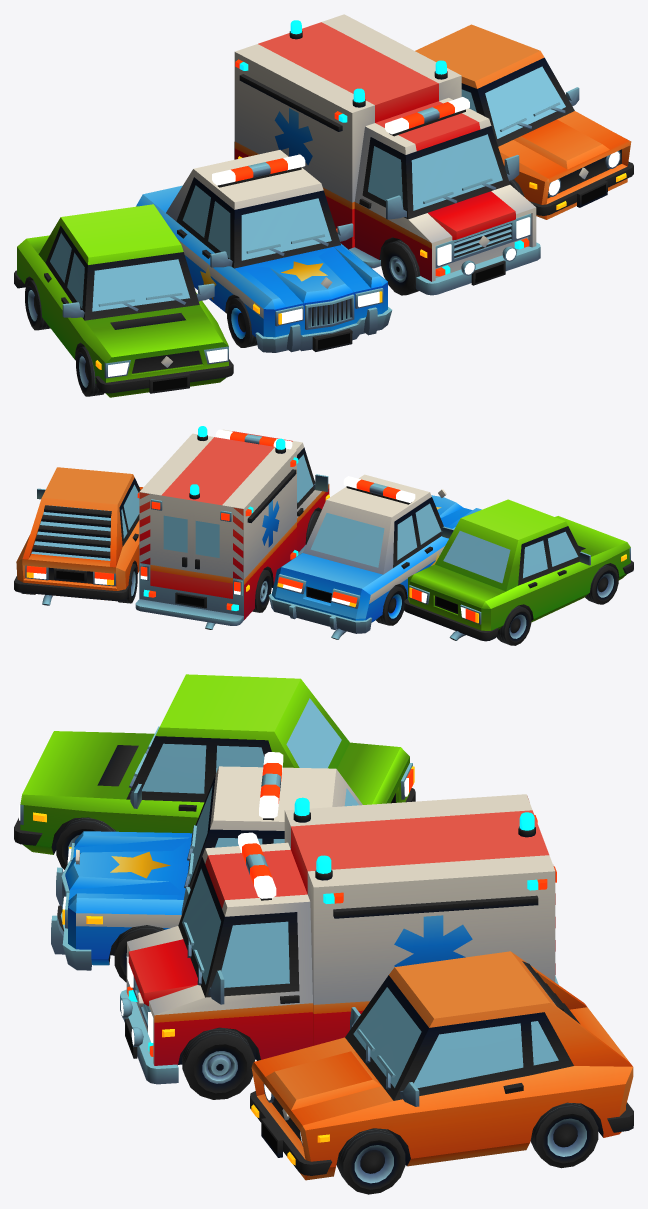
File: набор_4_машины.fbx
The picture shows the model from 3 angles, top to bottom: view 1: azimuth 30°, elevation 25°; view 2: azimuth 150°, elevation 25°; view 3: azimuth 270°, elevation 25°; orthographic projection. The views are drawn at different scales.
Visible parts, largest first — view 1: SHTV_Model_Car_Ambulance, SHTV_Model_Car_Police, SHTV_Model_Car_Sedan, SHTV_Model_Car_Hatchback, SHTV_Model_Wheel_Ambulance_FR, SHTV_Model_Wheel_Police_FR, SHTV_Model_Wheel_Sedan_FR, SHTV_Model_Wheel_Sedan_BR; view 2: SHTV_Model_Car_Ambulance, SHTV_Model_Car_Sedan, SHTV_Model_Car_Police, SHTV_Model_Car_Hatchback, SHTV_Model_Wheel_Sedan_BR, SHTV_Model_Wheel_Sedan_FR, SHTV_Model_Wheel_Police_BR, SHTV_Model_Wheel_Ambulance_BR, SHTV_Model_Wheel_Hatchback_BR; view 3: SHTV_Model_Car_Ambulance, SHTV_Model_Car_Hatchback, SHTV_Model_Car_Sedan, SHTV_Model_Car_Police, SHTV_Model_Wheel_Ambulance_FL, SHTV_Model_Wheel_Hatchback_FL, SHTV_Model_Wheel_Hatchback_BL, SHTV_Model_Wheel_Sedan_FL, SHTV_Model_Wheel_Police_FL.
Part boxes in pixels (bbox=[...]): SHTV_Model_Car_Ambulance: bbox=[234, 14, 540, 295]; SHTV_Model_Car_Police: bbox=[136, 150, 392, 352]; SHTV_Model_Car_Sedan: bbox=[14, 204, 233, 397]; SHTV_Model_Car_Hatchback: bbox=[415, 24, 633, 219]; SHTV_Model_Wheel_Ambulance_FR: bbox=[381, 239, 420, 295]; SHTV_Model_Wheel_Police_FR: bbox=[227, 297, 257, 347]; SHTV_Model_Wheel_Sedan_FR: bbox=[76, 346, 104, 396]; SHTV_Model_Wheel_Sedan_BR: bbox=[25, 280, 50, 330]; SHTV_Model_Car_Ambulance: bbox=[135, 426, 329, 629]; SHTV_Model_Car_Sedan: bbox=[404, 499, 633, 641]; SHTV_Model_Car_Police: bbox=[268, 474, 481, 639]; SHTV_Model_Car_Hatchback: bbox=[14, 467, 142, 605]; SHTV_Model_Wheel_Sedan_BR: bbox=[496, 605, 531, 645]; SHTV_Model_Wheel_Sedan_FR: bbox=[585, 564, 618, 604]; SHTV_Model_Wheel_Police_BR: bbox=[376, 585, 405, 625]; SHTV_Model_Wheel_Ambulance_BR: bbox=[252, 569, 271, 612]; SHTV_Model_Wheel_Hatchback_BR: bbox=[118, 563, 137, 603]; SHTV_Model_Car_Ambulance: bbox=[120, 794, 558, 1084]; SHTV_Model_Car_Hatchback: bbox=[250, 951, 633, 1180]; SHTV_Model_Car_Sedan: bbox=[14, 674, 415, 854]; SHTV_Model_Car_Police: bbox=[51, 752, 362, 970]; SHTV_Model_Wheel_Ambulance_FL: bbox=[182, 1027, 254, 1099]; SHTV_Model_Wheel_Hatchback_FL: bbox=[337, 1128, 405, 1194]; SHTV_Model_Wheel_Hatchback_BL: bbox=[530, 1102, 598, 1168]; SHTV_Model_Wheel_Sedan_FL: bbox=[56, 817, 115, 869]; SHTV_Model_Wheel_Police_FL: bbox=[114, 925, 164, 982].
Size of the model in its own units: 1034 by 271 by 674.
Materials: 8 (6 with a texture image).
